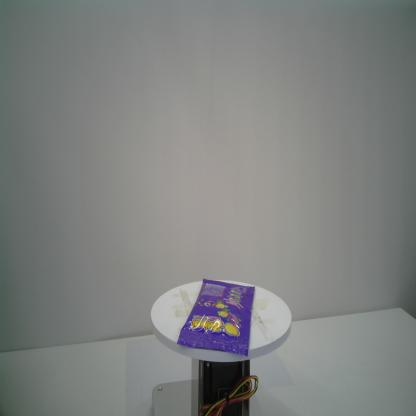Candy: (177, 278, 256, 358)
